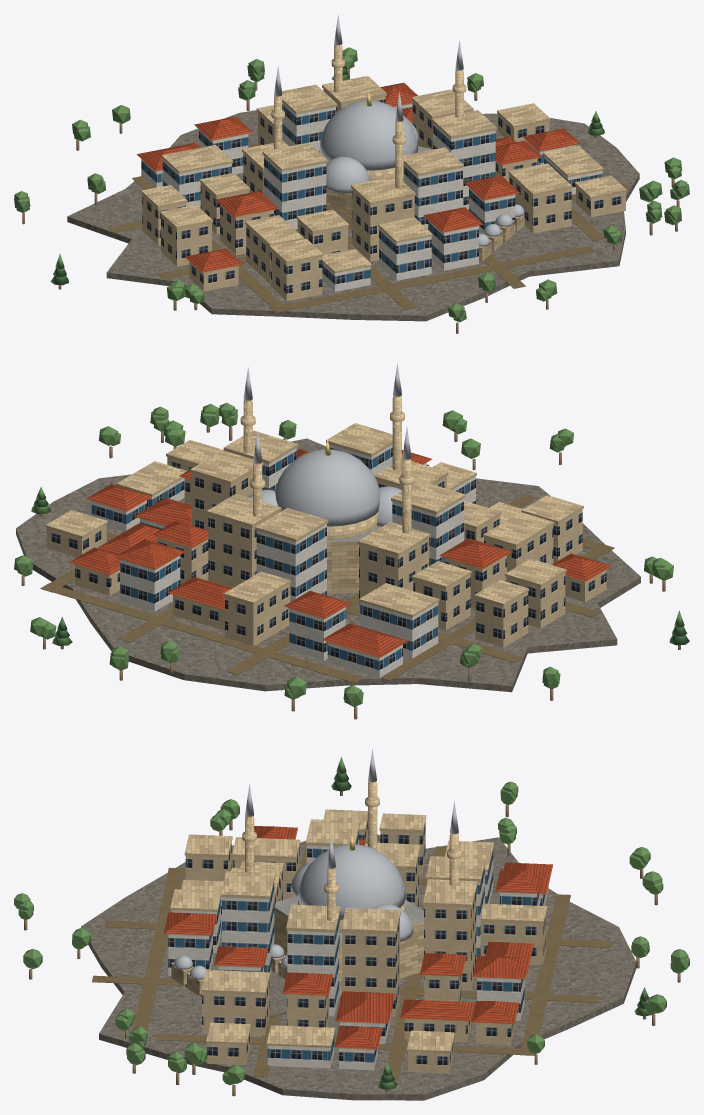
The model's file is city_orient_medium.glb.
3 views of the same model, one above another, from view 1: azimuth 30°, elevation 25°; view 2: azimuth 150°, elevation 25°; view 3: azimuth 270°, elevation 25° (orthographic). The views are drawn at different scales.
Parts seen in each view (by area): view 1: city_orient_medium; view 2: city_orient_medium; view 3: city_orient_medium.
Part boxes in pixels (x1,y1,x2,y2): city_orient_medium: (14, 15, 689, 333); city_orient_medium: (14, 363, 689, 719); city_orient_medium: (14, 749, 689, 1100).
Bounding box in the file's own units: 3.47 × 0.9256 × 3.21.
12 materials, 7 textured.
